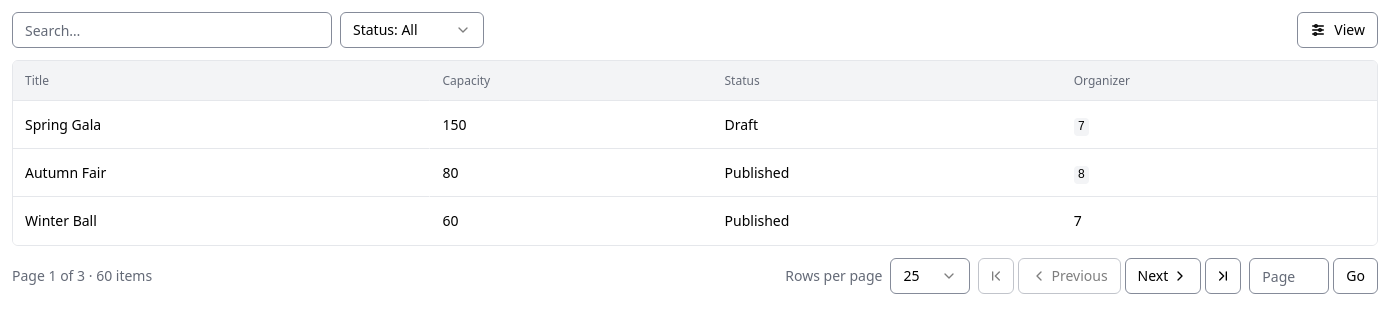
Test: view state in the URL › a settled search adds one history entry, refining it replaces that entry
This screenshot has width=1390, height=311.
Type "ga" into the search field labelled "Search".
click(172, 30); type("ga")  # box [12,12,332,48]
Wait 350 ms
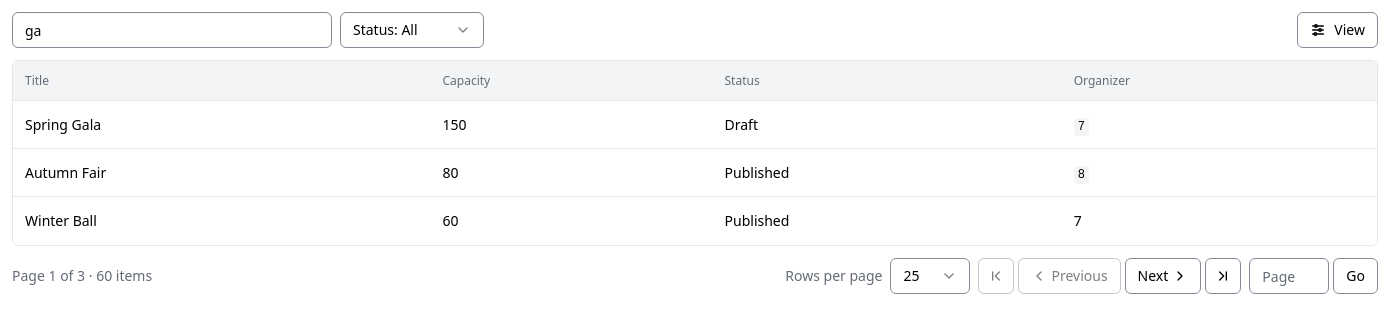
Replace the text in the search field named "Search" with "gala" at (172, 30), box [12,12,332,48]
Wait 350 ms
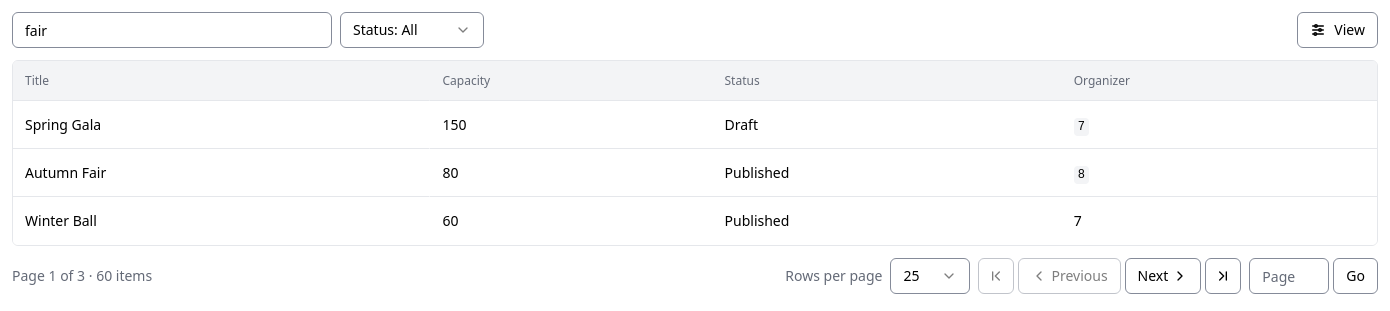
expect the search field named "Search" holds "fair": met, box [12,12,332,48]
